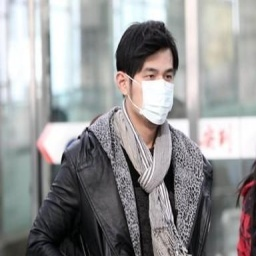correctlyWear: (115, 58, 175, 125)
